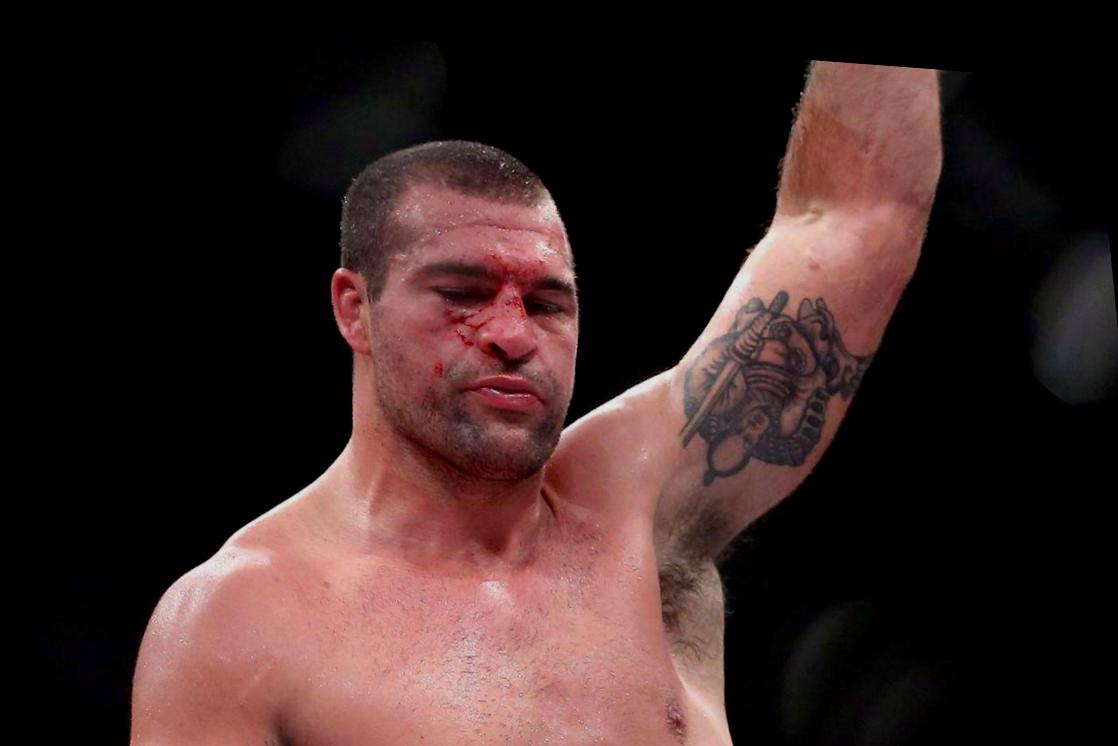Fire: (426, 236, 544, 342)
